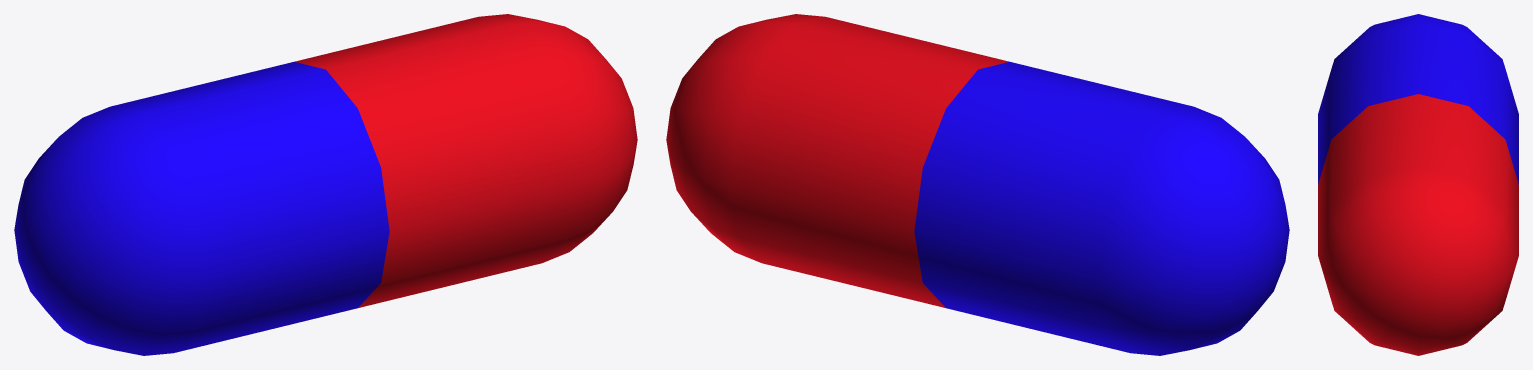
3 views of the same model, side by side, from view 1: azimuth 30°, elevation 25°; view 2: azimuth 150°, elevation 25°; view 3: azimuth 270°, elevation 25° (orthographic). The views are drawn at different scales.
Visible parts, largest first — view 1: capsule; view 2: capsule; view 3: capsule.
Boxes of the visible parts, box(x1,y1,x2,y2) form: capsule: box(14, 14, 637, 355); capsule: box(666, 14, 1289, 355); capsule: box(1318, 14, 1518, 355).
Size of the model in its own units: 60.45 by 22.63 by 22.63.
